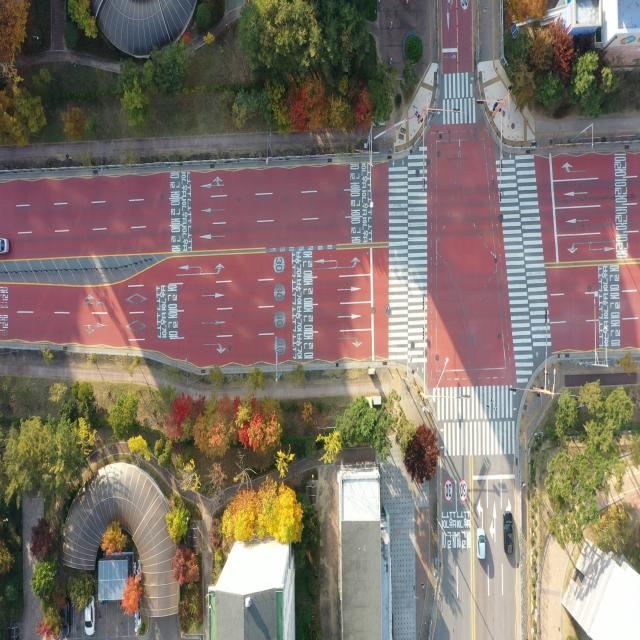car: (503, 511, 513, 557), (476, 526, 488, 560), (84, 604, 95, 636), (0, 238, 8, 254)
